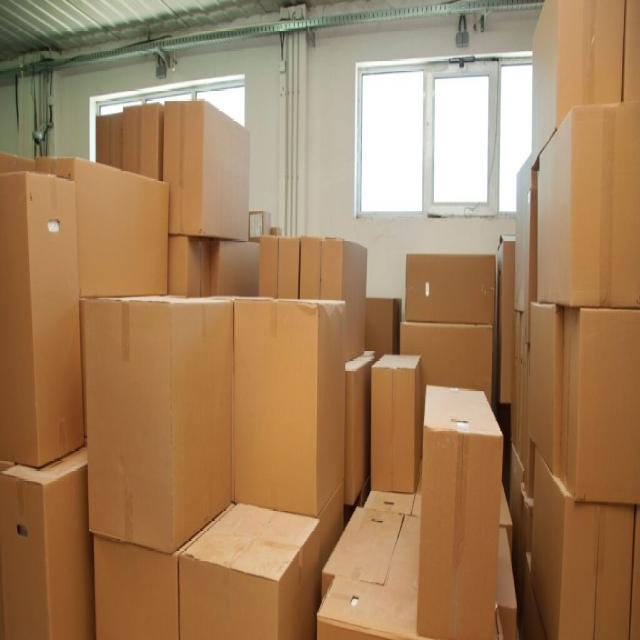box: (77, 296, 237, 526), (43, 147, 178, 405), (504, 290, 640, 523), (233, 272, 342, 522), (0, 175, 83, 467), (424, 371, 505, 640), (531, 455, 639, 640), (535, 137, 640, 318), (304, 230, 372, 502), (2, 464, 88, 640), (533, 8, 640, 143), (185, 531, 317, 640), (162, 100, 254, 246), (398, 318, 505, 423), (91, 528, 189, 640), (402, 248, 506, 332), (370, 348, 423, 509), (503, 169, 542, 337), (260, 221, 302, 316), (363, 289, 403, 386), (122, 98, 163, 181), (91, 111, 129, 172)
